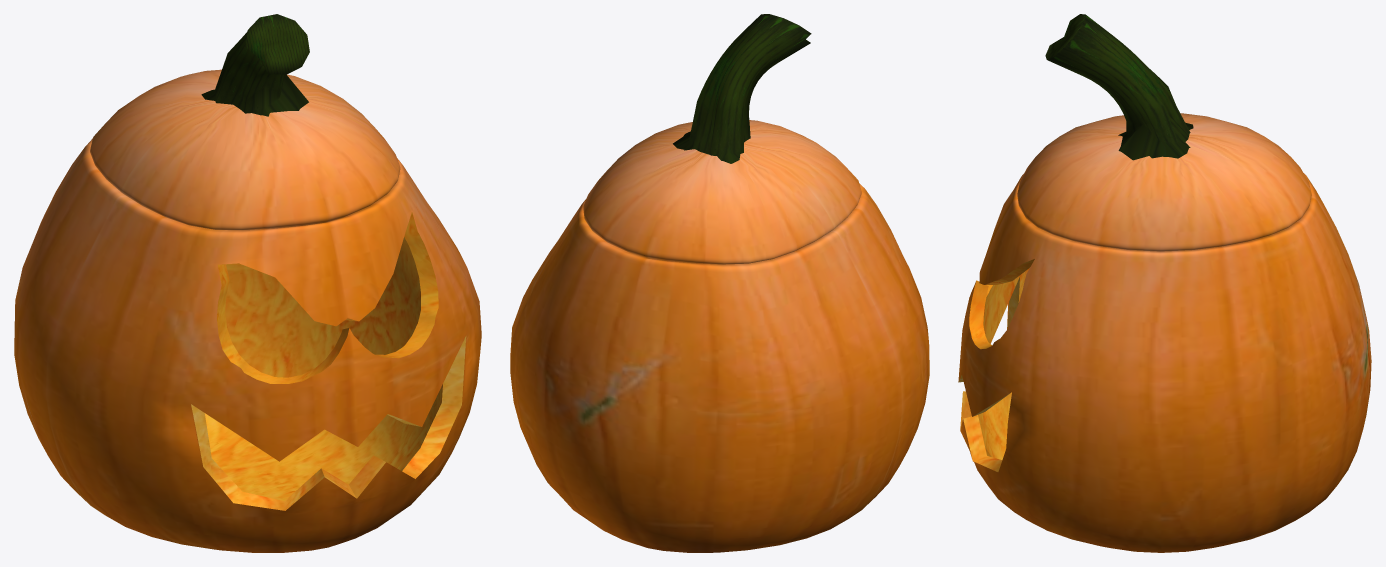
The model's file is pumpkin2.glb.
The picture shows the model from 3 angles, left to right: view 1: azimuth 30°, elevation 25°; view 2: azimuth 150°, elevation 25°; view 3: azimuth 270°, elevation 25°; orthographic projection. The views are drawn at different scales.
Parts seen in each view (by area): view 1: frontR_pumpkin_body; view 2: frontR_pumpkin_body; view 3: frontR_pumpkin_body.
Boxes of the visible parts, <box> form: frontR_pumpkin_body: <box>14,14,481,552</box>; frontR_pumpkin_body: <box>510,14,929,552</box>; frontR_pumpkin_body: <box>958,14,1371,552</box>.
Bounding box in the file's own units: 7.5 × 9.29 × 7.21.
4 materials, 4 textured.
